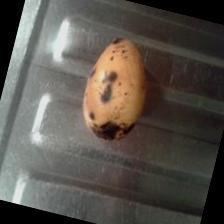Mango Overripe: (72, 26, 160, 151)
